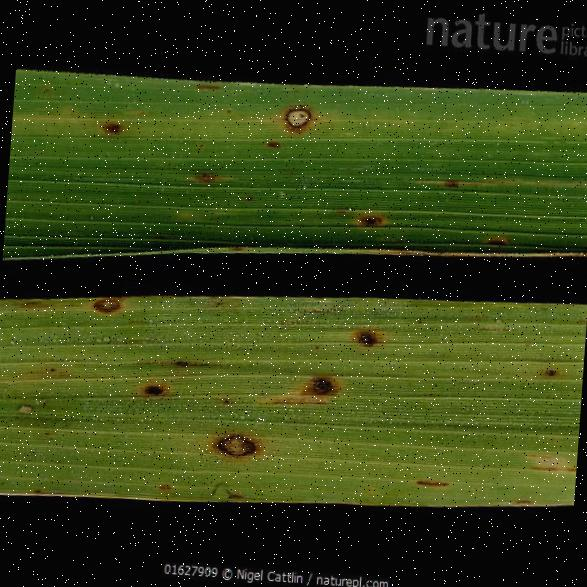Brown_Spot: (259, 354, 358, 416), (198, 421, 284, 470), (342, 189, 403, 236), (340, 320, 396, 368), (120, 366, 180, 406), (76, 282, 134, 318), (526, 351, 568, 397), (278, 92, 324, 132), (90, 102, 130, 146), (182, 162, 242, 191), (408, 471, 462, 499), (0, 393, 41, 416), (145, 476, 189, 495), (433, 170, 462, 195), (187, 78, 229, 94), (477, 230, 517, 246), (260, 131, 287, 148)
